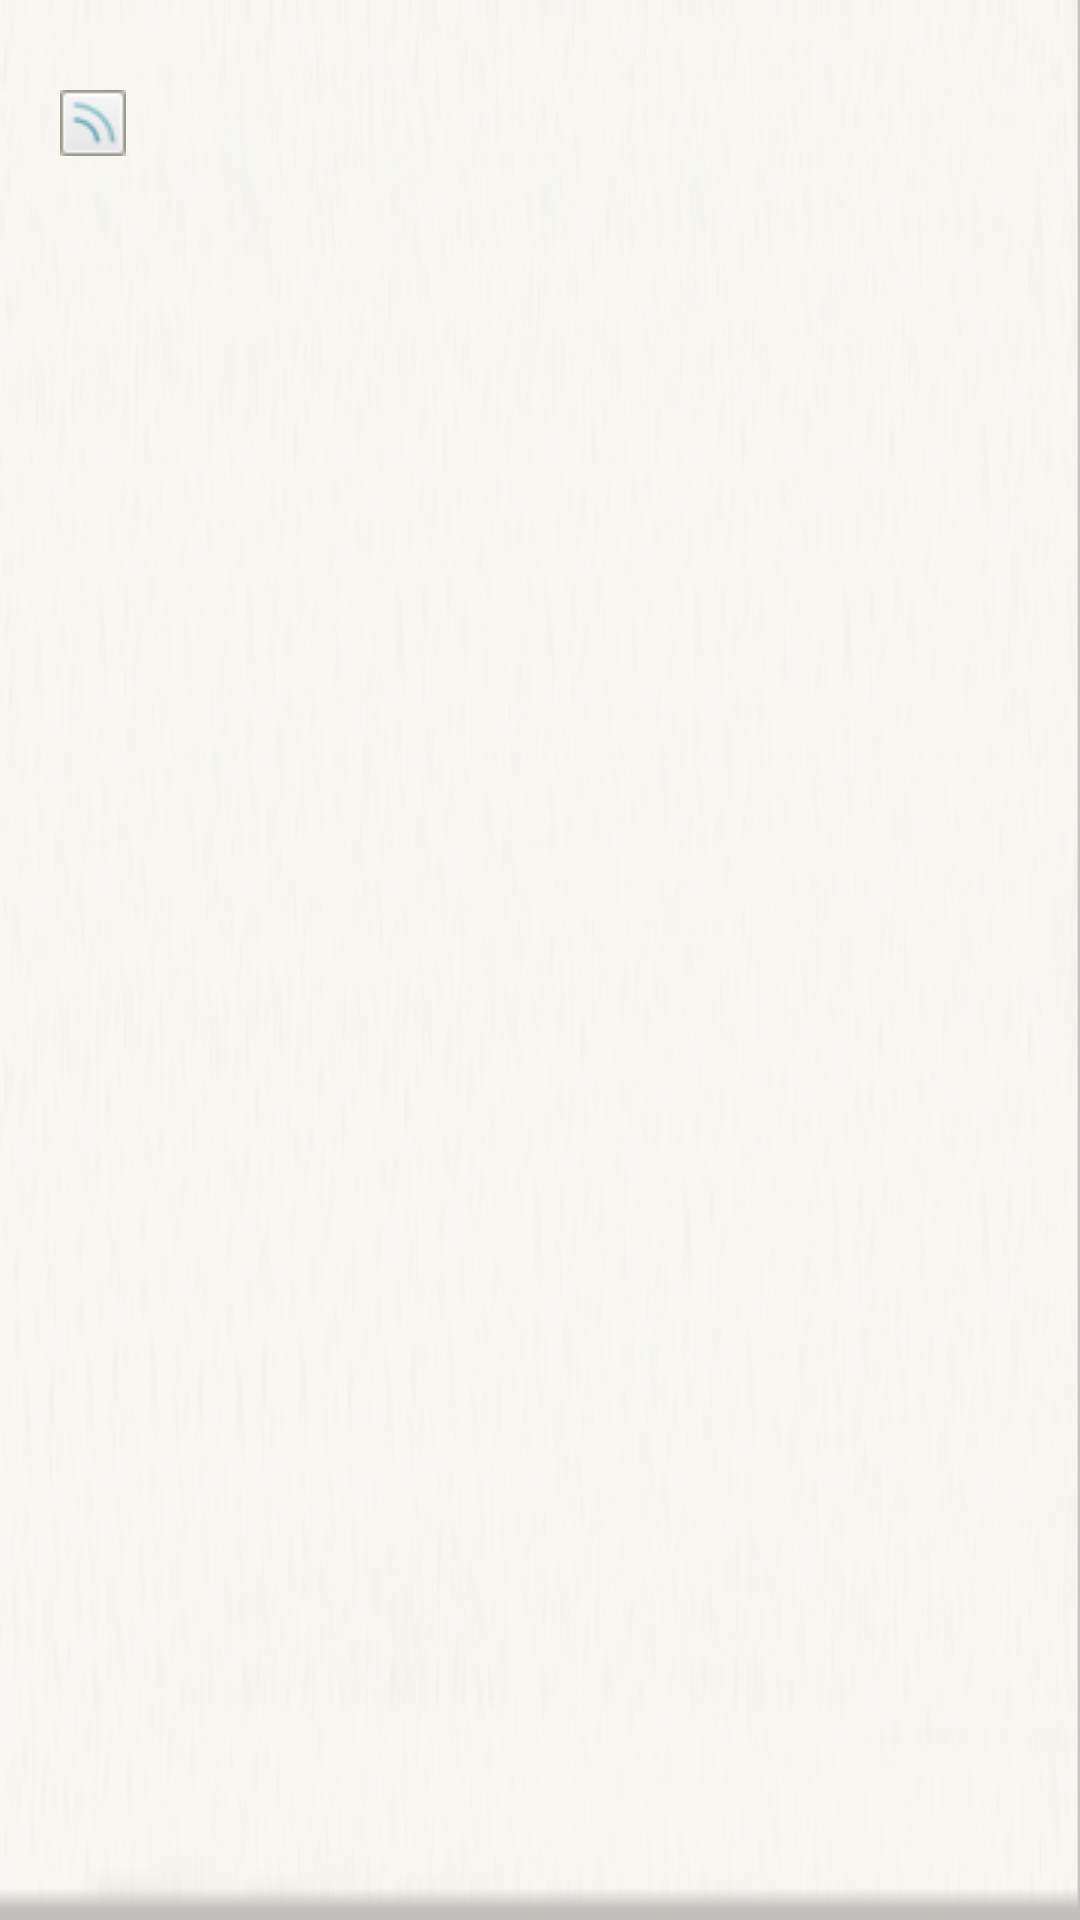

Point at icon controls on the screen. Image size 1080 × 1920, points as (x=x, y=y).
rssicon: (x=93, y=123)
